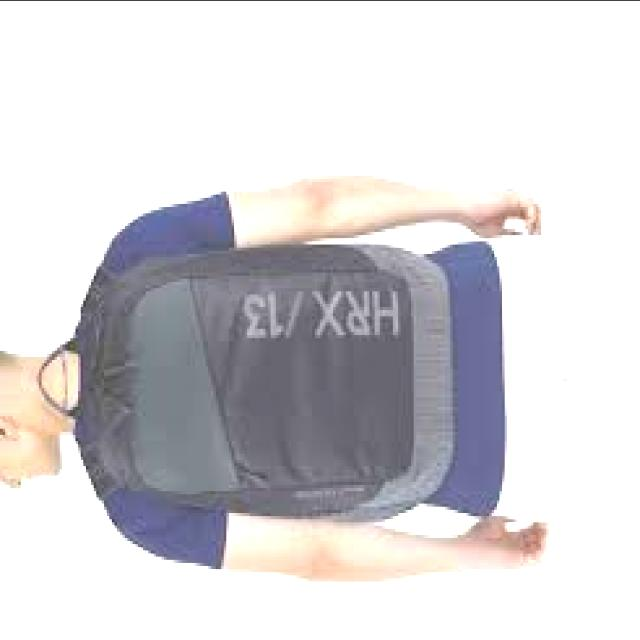backpack: (38, 242, 457, 529)
